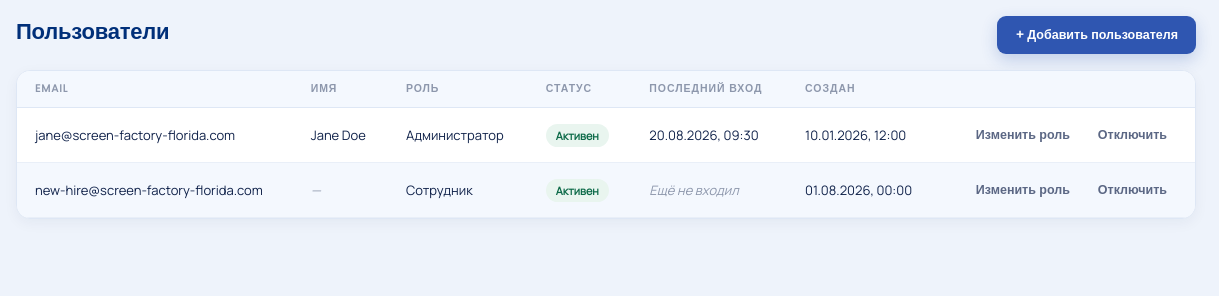
Test case: UsersPage › shows a clear message when deactivating the last admin returns 409
The width and height of the screenshot is (1219, 296).
Expected: the text "jane@screen-factory-florida.com" is shown, [17, 108, 293, 162]
What coordinates should you click on to do the following:
click the button "Отключить" in the row of "jane@screen-factory-florida.com"
I would click on:
 (1132, 135)
Its box is [1088, 120, 1177, 150].
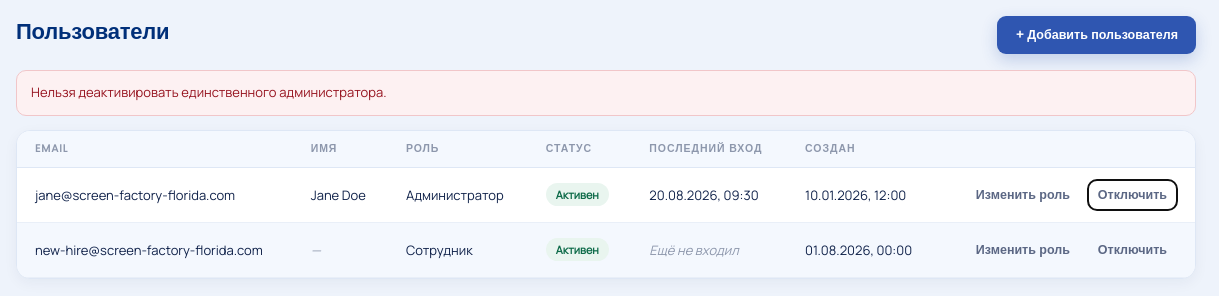
Expected: the text "Нельзя деактивировать единственного администратора." is shown, [16, 70, 1196, 116]
